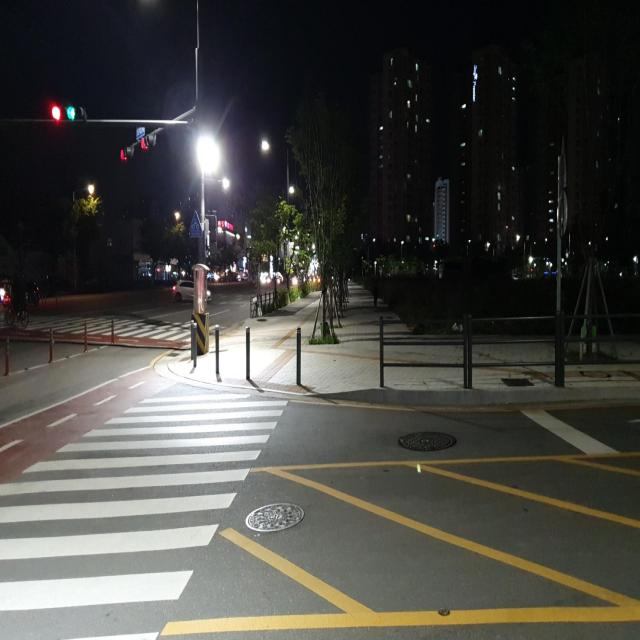횡단보도: (0, 390, 289, 640), (21, 312, 192, 345)
